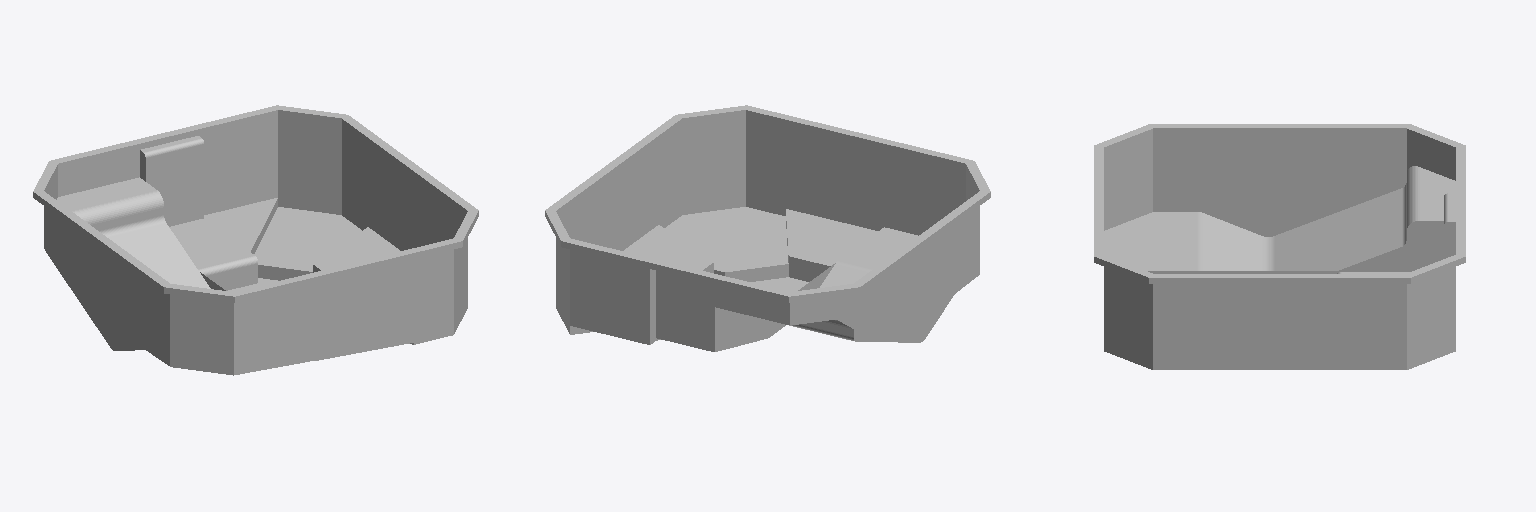
File: AURE_BLANCA.obj
3 views of the same model, side by side, from view 1: azimuth 30°, elevation 25°; view 2: azimuth 150°, elevation 25°; view 3: azimuth 270°, elevation 25° (orthographic).
Visible parts, largest first — view 1: Mesh1 Group1 Model; view 2: Mesh1 Group1 Model; view 3: Mesh1 Group1 Model.
Boxes of the visible parts, x1,y1,x2,y2 form: Mesh1 Group1 Model: [33, 105, 478, 375]; Mesh1 Group1 Model: [545, 105, 990, 351]; Mesh1 Group1 Model: [1094, 124, 1465, 369].
Bounding box in the file's own units: 198 × 66 × 202.